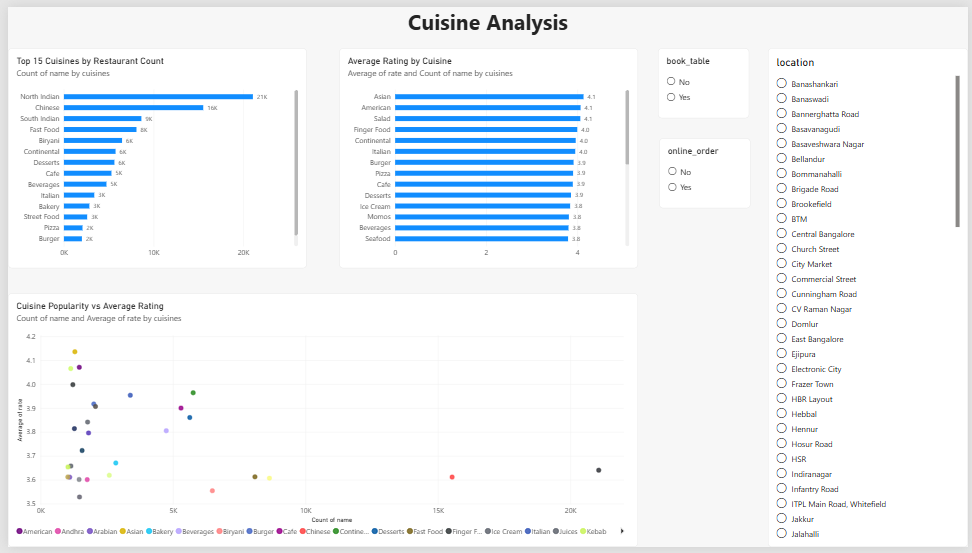

The page's visual inventory and layout, read from the dashboard file:
{"tool":"powerbi","page":{"name":"Cuisine Analysis","canvas":[1920,1080],"ordinal":2},"visuals":[{"type":"clusteredBarChart","title":"Top 15 Cuisines by Restaurant Count","fields":{"Category":["Cuisine Analysis.cuisines"],"Y":["CountNonNull(Cuisine Analysis.name)"]},"box":[0,82.5,597.5,440],"z":0},{"type":"clusteredBarChart","title":"Average Rating by Cuisine","fields":{"Category":["Cuisine Analysis.cuisines"],"Y":["Avg(Cuisine Analysis.rate)"]},"box":[662.5,82.5,597.5,440],"z":1000},{"type":"scatterChart","title":"Cuisine Popularity vs Average Rating","fields":{"Series":["Cuisine Analysis.cuisines"],"X":["Cuisine Analysis.name"],"Y":["Avg(Cuisine Analysis.rate)"]},"box":[0,572.5,1260,507.5],"z":2000},{"type":"listSlicer","fields":{"Values":["zomato_cleaned.book_table"]},"box":[1520,0,400,140],"z":3000},{"type":"listSlicer","fields":{"Values":["zomato_cleaned.location"]},"box":[1520,330,400,750],"z":4000},{"type":"listSlicer","fields":{"Values":["zomato_cleaned.online_order"]},"box":[1520,162.5,400,140],"z":5000},{"type":"textbox","box":[1270,605,650,475],"z":5001},{"type":"textbox","box":[0,0,1427.5,117.5],"z":5002}]}

Visuals, with their boxes in screenshot pixels (x1, y1, x2, y2), scaled from the page's 1920x1080 canvas onto the 972x553 screenshot:
"Top 15 Cuisines by Restaurant Count" clusteredBarChart: {"left": 0, "top": 42, "right": 302, "bottom": 268}
"Average Rating by Cuisine" clusteredBarChart: {"left": 335, "top": 42, "right": 638, "bottom": 268}
"Cuisine Popularity vs Average Rating" scatterChart: {"left": 0, "top": 293, "right": 638, "bottom": 552}
listSlicer - zomato_cleaned.book_table: {"left": 770, "top": 0, "right": 971, "bottom": 72}
listSlicer - zomato_cleaned.location: {"left": 770, "top": 169, "right": 971, "bottom": 552}
listSlicer - zomato_cleaned.online_order: {"left": 770, "top": 83, "right": 971, "bottom": 155}
textbox: {"left": 643, "top": 310, "right": 971, "bottom": 552}
textbox: {"left": 0, "top": 0, "right": 723, "bottom": 60}
